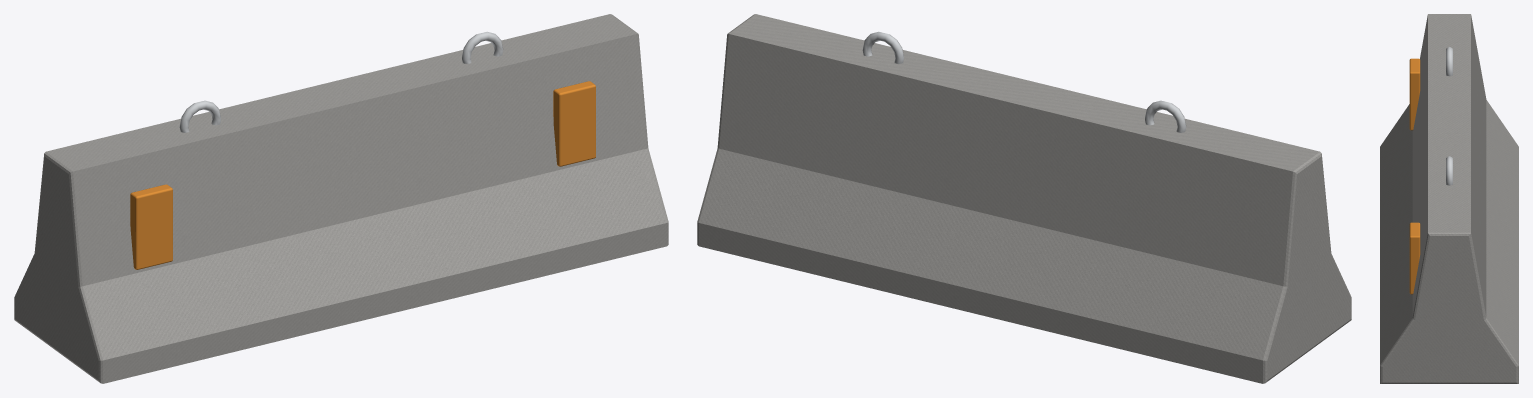
The model's file is battle-royale-town-and-airfield-jersey-barrier-98fd4d40__28258.glb.
The picture shows the model from 3 angles, left to right: view 1: azimuth 30°, elevation 25°; view 2: azimuth 150°, elevation 25°; view 3: azimuth 270°, elevation 25°; orthographic projection. The views are drawn at different scales.
Visible parts, largest first — view 1: jersey-barrier; view 2: jersey-barrier; view 3: jersey-barrier.
Boxes of the visible parts, bbox=[...] form: jersey-barrier: bbox=[14, 14, 668, 383]; jersey-barrier: bbox=[697, 14, 1351, 383]; jersey-barrier: bbox=[1380, 14, 1518, 383].
Bounding box in the file's own units: 2.42 × 0.8777 × 0.644.
Materials: 3 (1 with a texture image).
